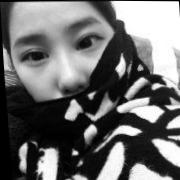WRONG: (14, 12, 131, 124)
